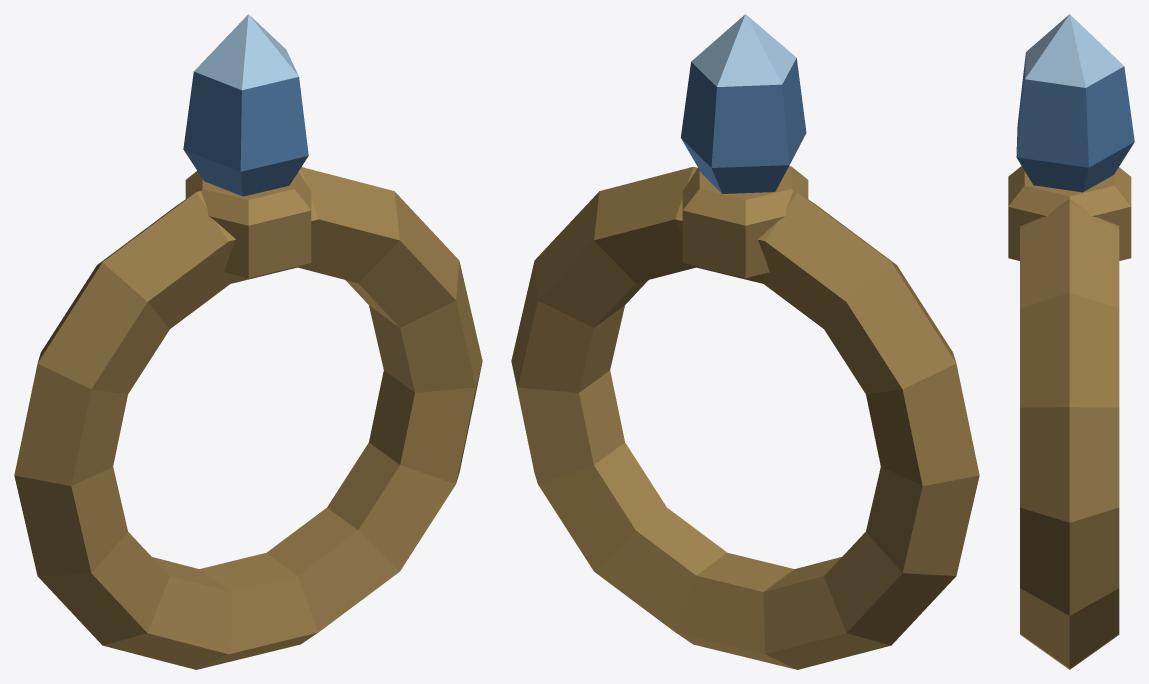
Rendered from quest_ring.glb.
3 renders of one model, left to right at view 1: azimuth 30°, elevation 25°; view 2: azimuth 150°, elevation 25°; view 3: azimuth 270°, elevation 25°, orthographic.
Visible parts, largest first — view 1: quest_ring; view 2: quest_ring; view 3: quest_ring.
Boxes of the visible parts, x1,y1,x2,y2 form: quest_ring: (14, 14, 482, 669); quest_ring: (511, 14, 979, 669); quest_ring: (1008, 14, 1134, 669).
Size of the model in its own units: 0.224 by 0.294 by 0.0535.
